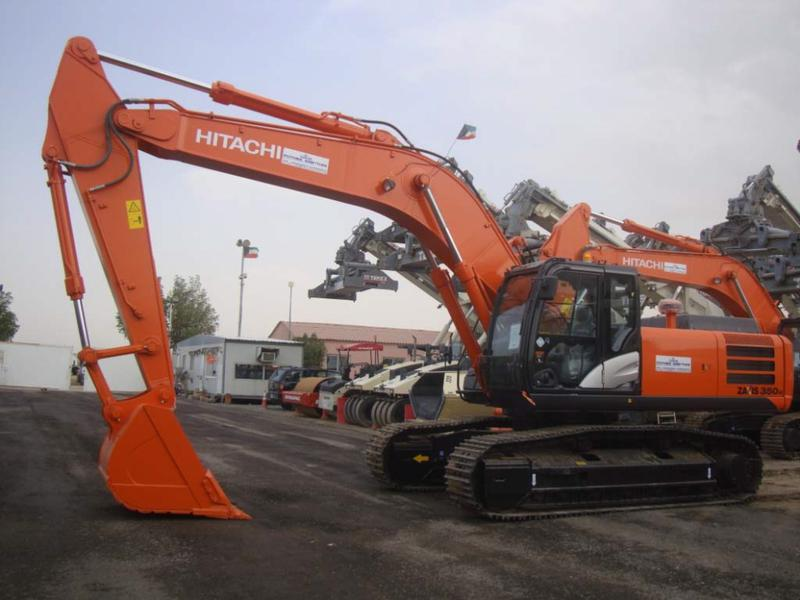shovel: (32, 31, 797, 530)
